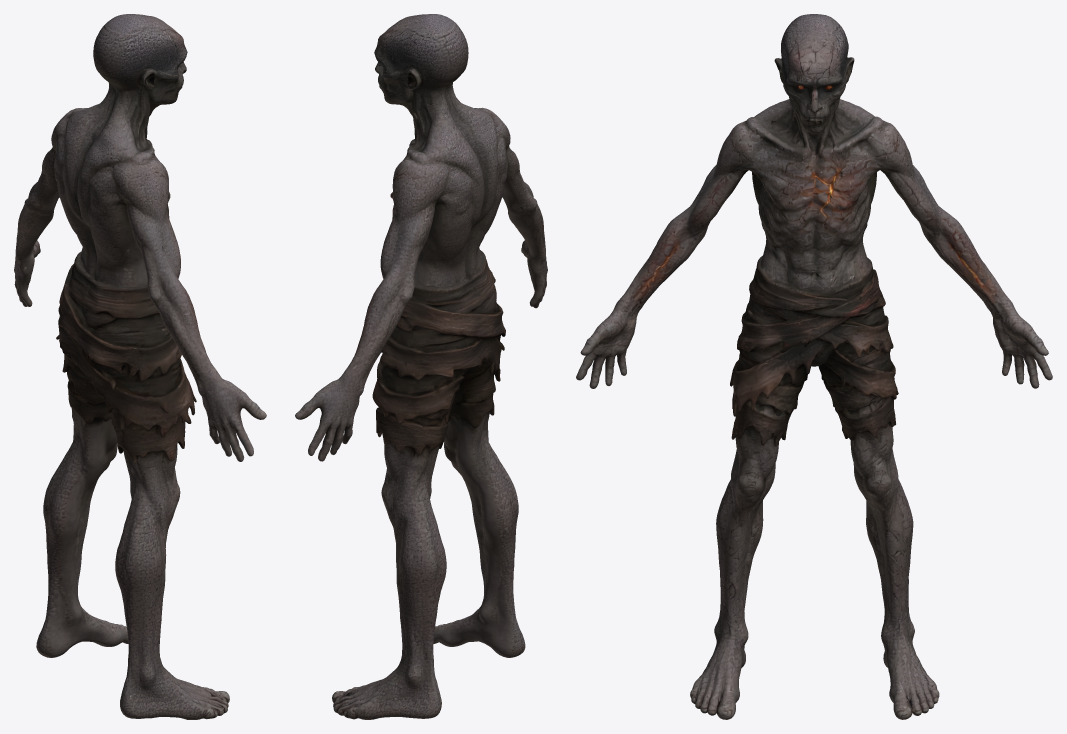
The model's file is ash_thrall.glb.
The picture shows the model from 3 angles, left to right: view 1: azimuth 30°, elevation 25°; view 2: azimuth 150°, elevation 25°; view 3: azimuth 270°, elevation 25°; orthographic projection.
Visible parts, largest first — view 1: weapon; view 2: weapon; view 3: weapon.
Part boxes in pixels (x1,y1,x2,y2): weapon: [14, 14, 266, 719]; weapon: [295, 14, 547, 719]; weapon: [576, 14, 1052, 719].
Size of the model in its own units: 0.1838 by 1 by 0.636.
1 material, 1 textured.
